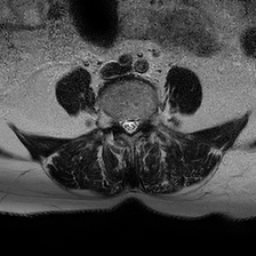CCS_severe_stenosis: (126, 113, 132, 141)
LFS_severe_stenosis: (140, 110, 149, 133)
LLS_stenosis: (132, 114, 140, 134)
RFS_normal: (110, 110, 118, 133)
RLS_stenosis: (118, 113, 126, 134)
